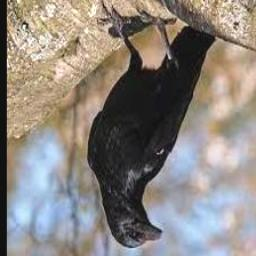Crow: (87, 6, 216, 248)
